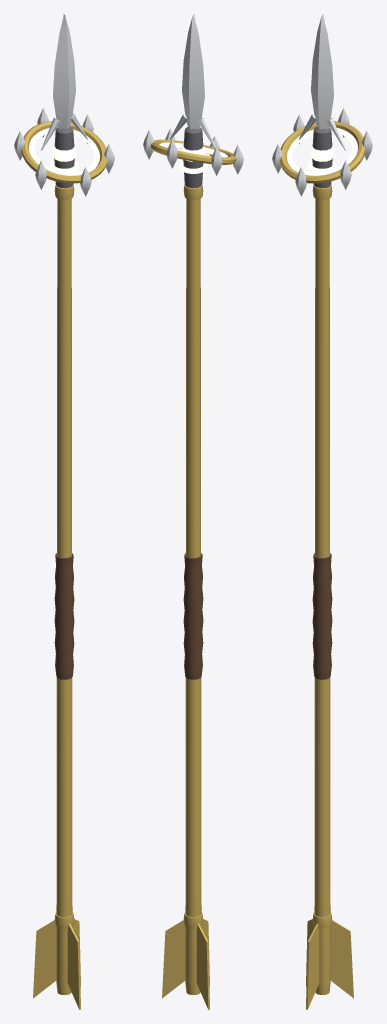
File: esc_w_knight_javelin_6.glb
3 views of the same model, side by side, from view 1: azimuth 30°, elevation 25°; view 2: azimuth 150°, elevation 25°; view 3: azimuth 330°, elevation 25° (orthographic).
Visible parts, largest first — view 1: esc_w_knight_javelin_6; view 2: esc_w_knight_javelin_6; view 3: esc_w_knight_javelin_6.
Boxes of the visible parts, x1,y1,x2,y2 form: esc_w_knight_javelin_6: [14, 14, 114, 1009]; esc_w_knight_javelin_6: [143, 14, 243, 1009]; esc_w_knight_javelin_6: [272, 14, 372, 1009].
Bounding box in the file's own units: 0.132 × 1.62 × 0.1443.
